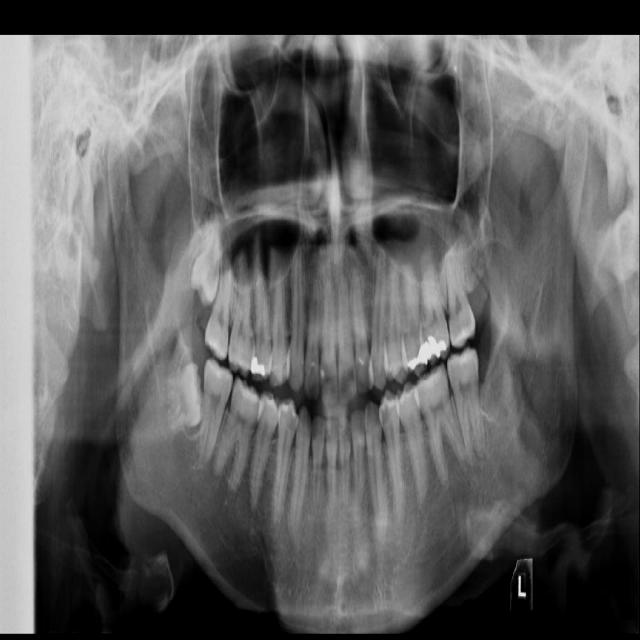Filling: (408, 342, 431, 371), (422, 335, 448, 358), (250, 357, 265, 377)
impacted tooth: (146, 364, 201, 434), (193, 225, 223, 304)
